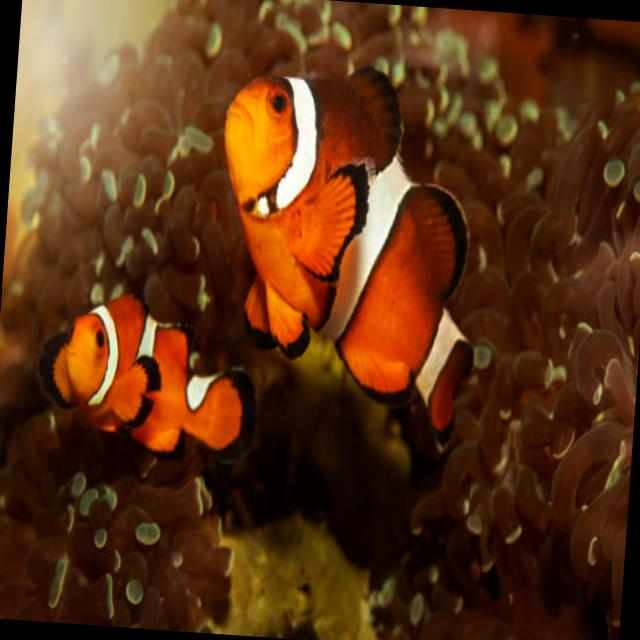ClownFish: (198, 47, 494, 440), (28, 291, 262, 475)
